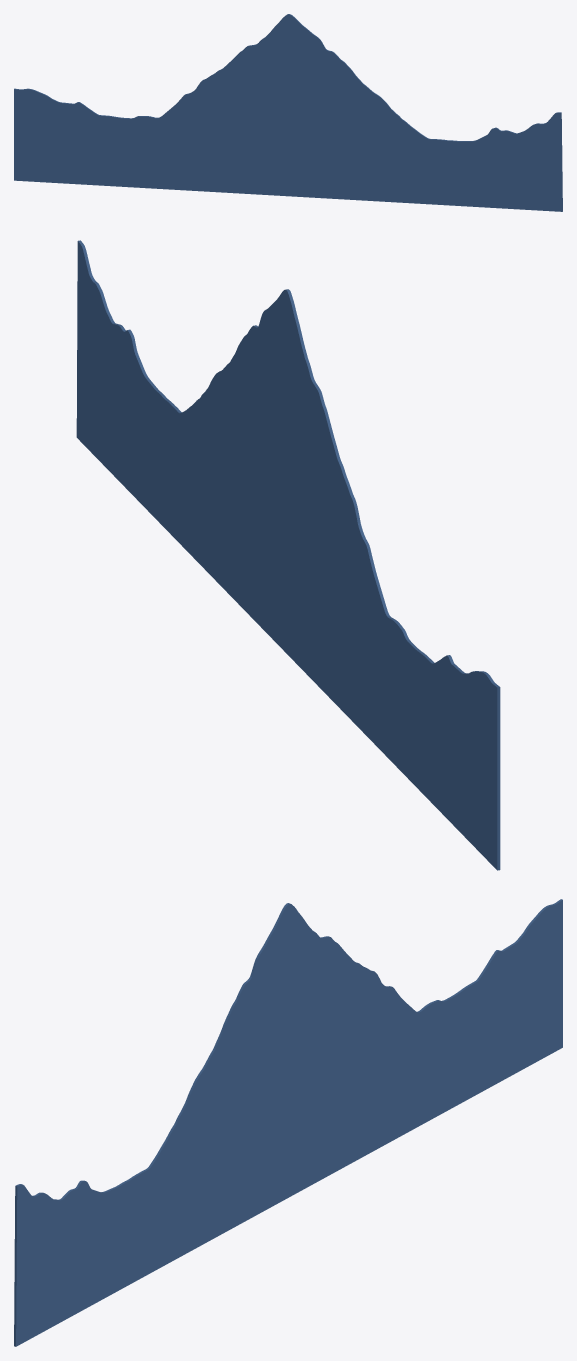
File: section_slab.glb
3 renders of one model, top to bottom at view 1: azimuth 30°, elevation 25°; view 2: azimuth 150°, elevation 25°; view 3: azimuth 270°, elevation 25°, orthographic. The views are drawn at different scales.
Parts seen in each view (by area): view 1: Section_Slab; view 2: Section_Slab; view 3: Section_Slab.
Boxes of the visible parts, x1,y1,x2,y2 form: Section_Slab: [14, 14, 562, 211]; Section_Slab: [76, 240, 500, 870]; Section_Slab: [14, 899, 562, 1346].
Size of the model in its own units: 11104 by 5068 by 8589.
